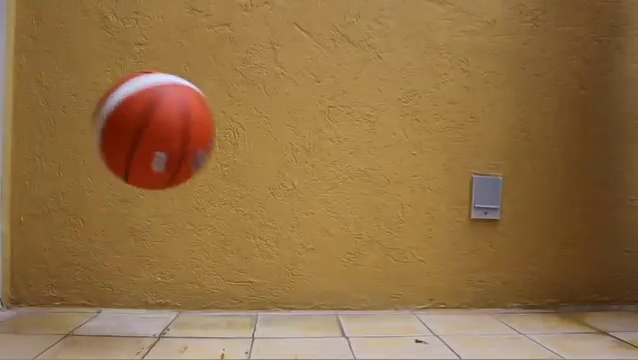ball: (92, 70, 216, 191)
